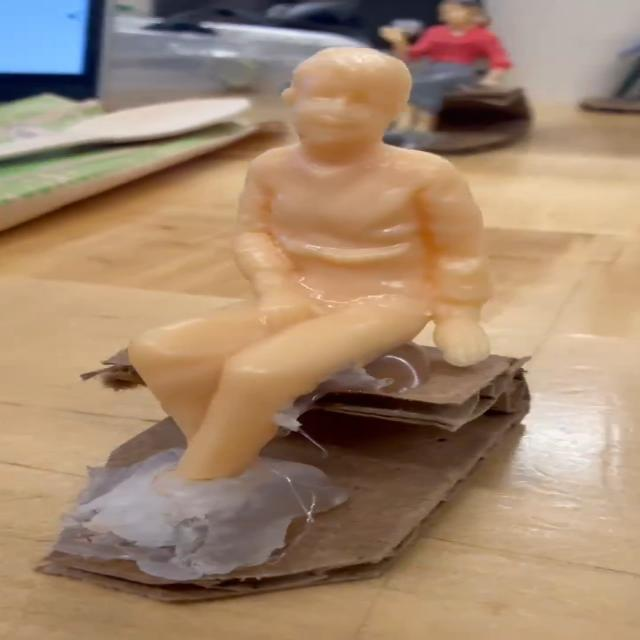Unauthorized: (104, 44, 470, 520)
